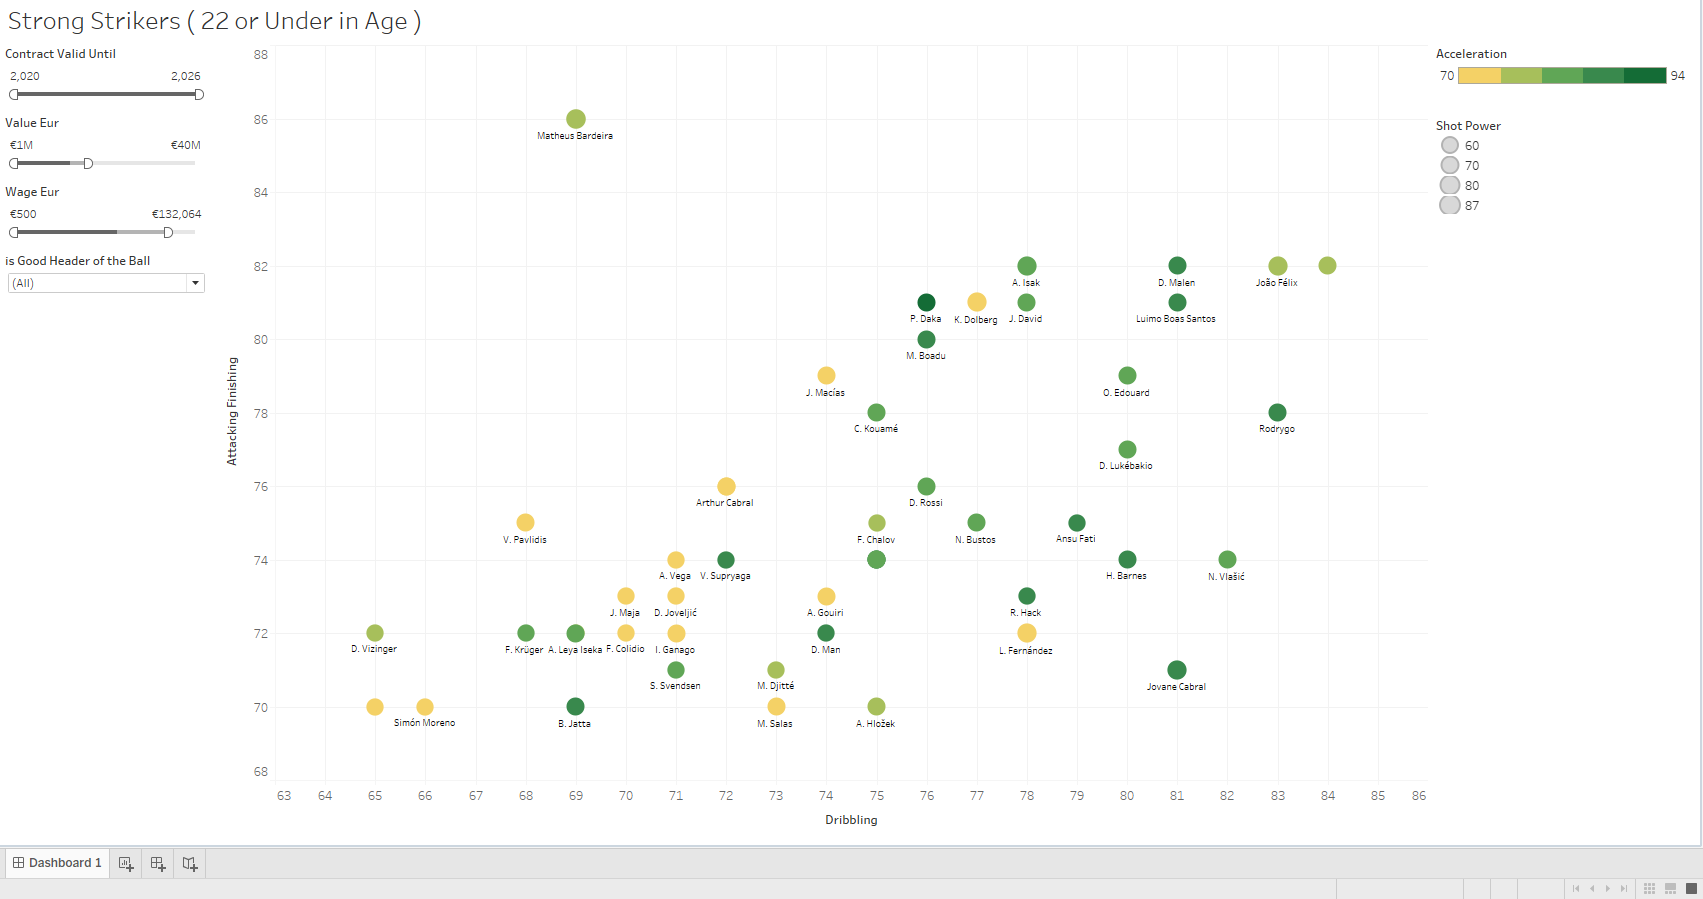

This screenshot's page, from the dashboard's own definition file:
{"tool":"tableau","page":{"name":"Dashboard 1","canvas":[1000,1000],"units":"permille","ordinal":0},"visuals":[{"type":"title","box":[4.7,9.3,990.6,49.1]},{"type":"filter","title":"Players Chart","param":"[federated.0m2bb220pdpg3i107lof80vbymd4].[sum:contract_valid_until:qk]","box":[4.7,58.4,123.5,80.6]},{"type":"worksheet","title":"Players Chart","mark":"Automatic","rows":["attacking_finishing"],"cols":["dribbling"],"box":[128.1,58.4,713.9,932.2]},{"type":"legend","title":"Players Chart","param":"[federated.0m2bb220pdpg3i107lof80vbymd4].[sum:movement_acceleration:qk]","box":[842,58.4,153.3,84.1]},{"type":"filter","title":"Players Chart","param":"[federated.0m2bb220pdpg3i107lof80vbymd4].[sum:value_eur:qk]","box":[4.7,139,123.5,80.6]},{"type":"legend","title":"Players Chart","param":"[federated.0m2bb220pdpg3i107lof80vbymd4].[sum:power_shot_power:qk]","box":[842,142.5,153.3,848.1]},{"type":"filter","title":"Players Chart","param":"[federated.0m2bb220pdpg3i107lof80vbymd4].[sum:wage_eur:qk]","box":[4.7,219.6,123.5,80.6]},{"type":"filter","title":"Players Chart","param":"[federated.0m2bb220pdpg3i107lof80vbymd4].[none:Calculation_1503639389338984448:n","box":[4.7,300.2,123.5,60.8]}]}

Visuals, with their boxes on the dashboard's canvas, which has no fixed pixel size, in thousandths of its width and height (x1, y1, x2, y2). These are canvas units, not pixel positions in the 1703x899 screenshot, which may show the page scaled, cropped or inside an application window:
title: left=5, top=9, right=995, bottom=58
"Players Chart" filter: left=5, top=58, right=128, bottom=139
"Players Chart" worksheet: left=128, top=58, right=842, bottom=991
"Players Chart" legend: left=842, top=58, right=995, bottom=142
"Players Chart" filter: left=5, top=139, right=128, bottom=220
"Players Chart" legend: left=842, top=142, right=995, bottom=991
"Players Chart" filter: left=5, top=220, right=128, bottom=300
"Players Chart" filter: left=5, top=300, right=128, bottom=361
